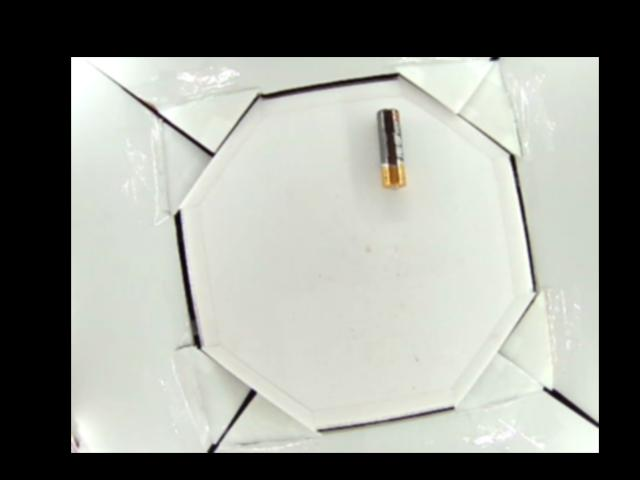Battery: (376, 107, 406, 189)
